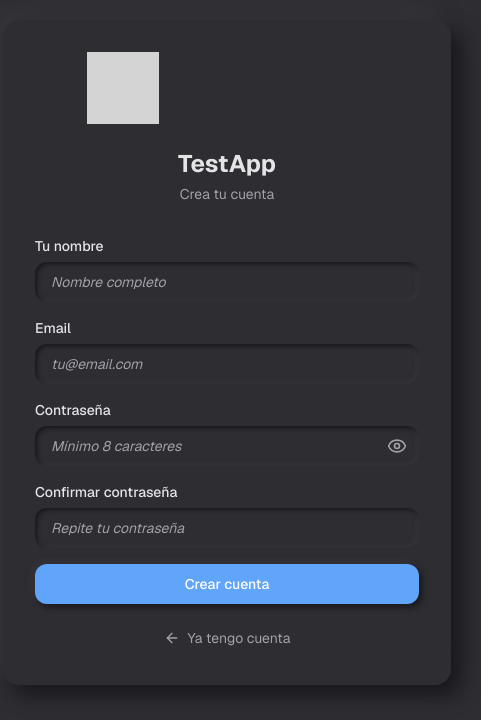
Test: <RegisterForm /> › validation errors from server (400) › surfaces the first field error inline
This screenshot has width=481, height=720.
In the field labelled "Tu nombre": {"x": 227, "y": 282} [35,262,419,302], type "Jane Doe"
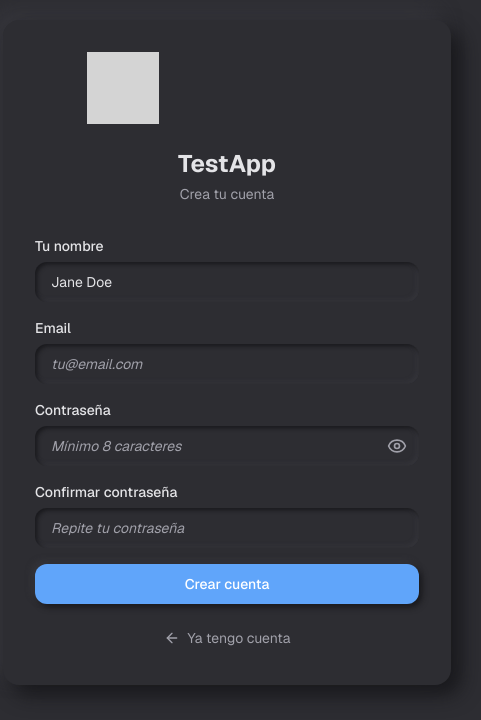
In the field labelled "Email": {"x": 227, "y": 364} [35,344,419,384], type "jane@test.com"
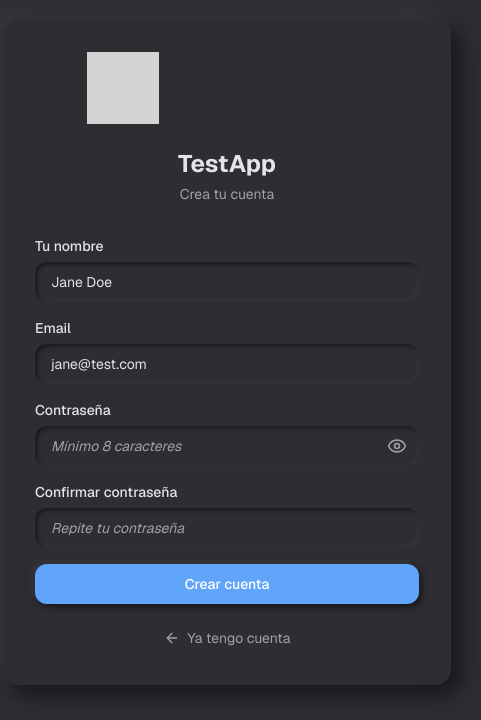
In the password field labelled "Contraseña": {"x": 227, "y": 446} [35,426,419,466], type "password123"
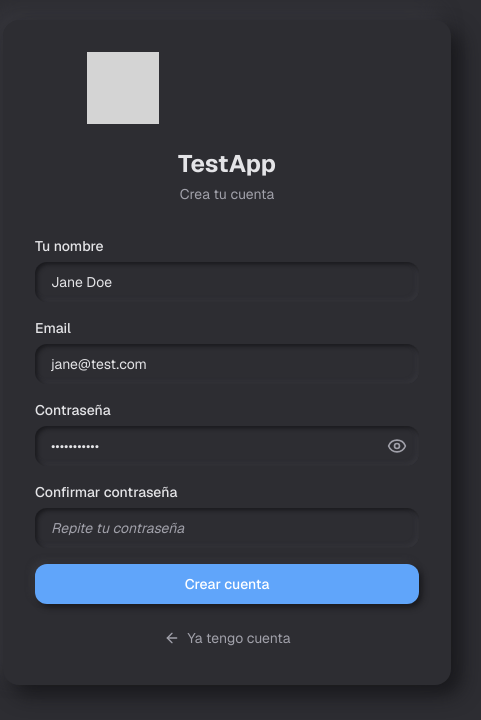
In the password field labelled "Confirmar contraseña": {"x": 227, "y": 528} [35,508,419,548], type "password123"
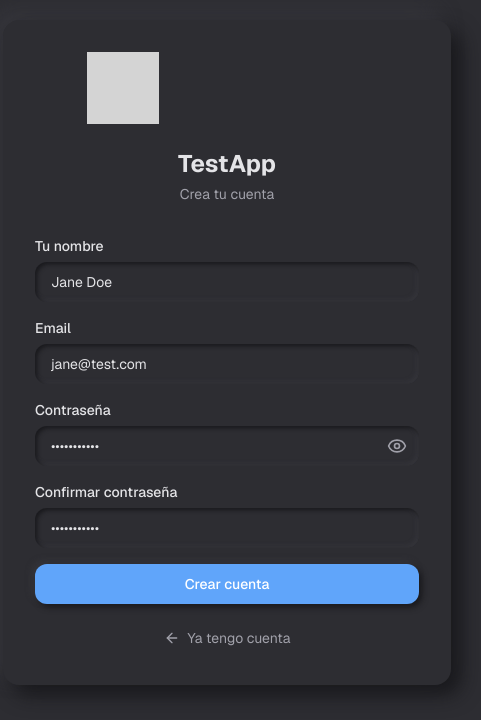
Click the button "Crear cuenta": {"x": 227, "y": 584} [35,564,419,604]
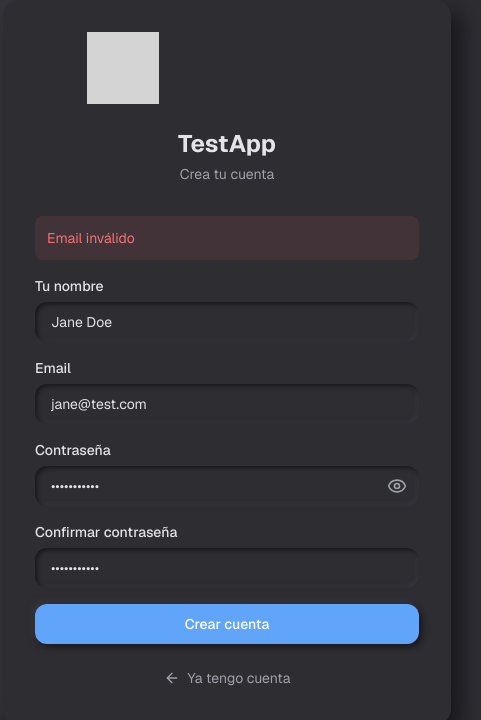
Now the text "Email inválido" is shown, box [35,216,419,260]
